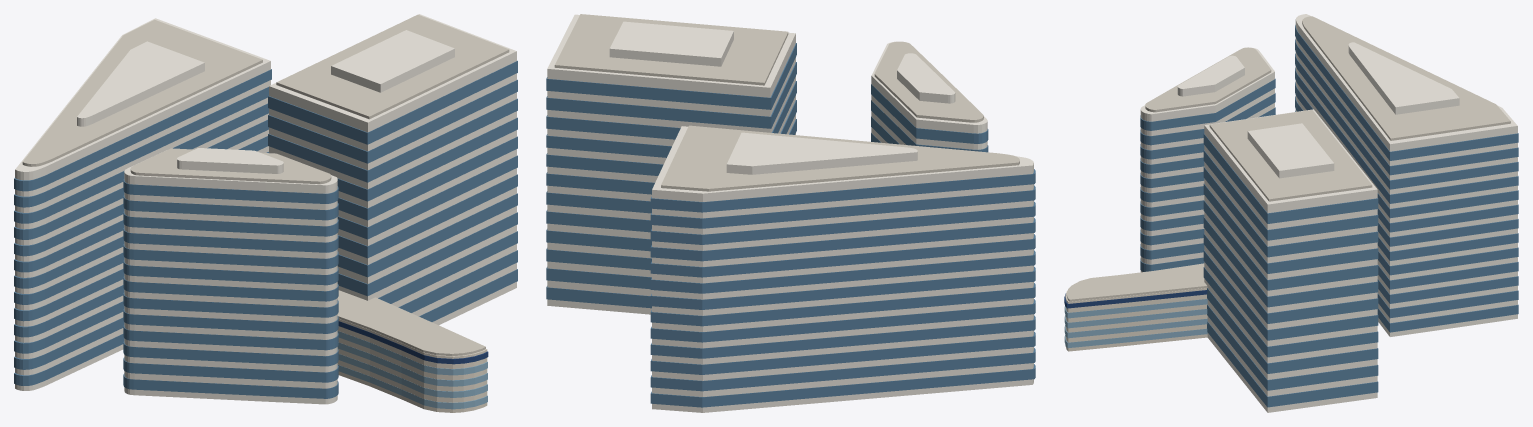
Rendered from times_city.glb.
3 views of the same model, side by side, from view 1: azimuth 30°, elevation 25°; view 2: azimuth 150°, elevation 25°; view 3: azimuth 270°, elevation 25° (orthographic). The views are drawn at different scales.
Parts seen in each view (by area): view 1: part; view 2: part; view 3: part.
Part boxes in pixels (x1,y1,x2,y2): part: (14,14,517,412); part: (546,14,1035,412); part: (1064,14,1518,412).
Size of the model in its own units: 7329413 by 3604200 by 6800627.
